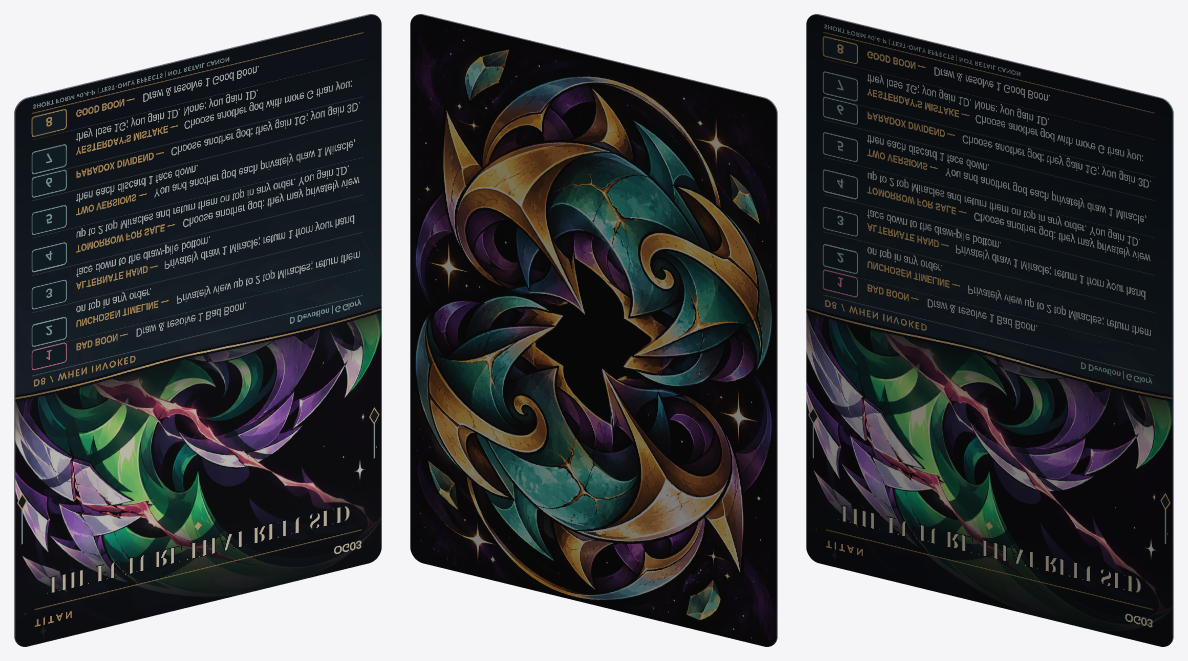
Rendered from SGLD_OG03_The_Future_That_Refused_3D_Card_v0.1-P_UNAPPROVED.glb.
The picture shows the model from 3 angles, left to right: view 1: azimuth 30°, elevation 25°; view 2: azimuth 150°, elevation 25°; view 3: azimuth 330°, elevation 25°; orthographic projection.
Parts seen in each view (by area): view 1: OG03_FRONT, OG03_EDGE; view 2: OG03_BACK, OG03_EDGE; view 3: OG03_FRONT, OG03_EDGE.
Part boxes in pixels (x1,y1,x2,y2): OG03_FRONT: (15,15,381,646); OG03_EDGE: (14,14,381,646); OG03_BACK: (410,15,776,646); OG03_EDGE: (410,14,777,646); OG03_FRONT: (806,15,1172,646); OG03_EDGE: (806,14,1173,646).
Bounding box in the file's own units: 0.0889 × 0.127 × 0.00035.
3 materials, 2 textured.
